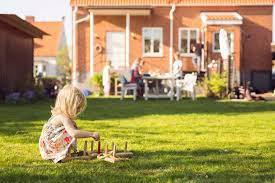child: (30, 84, 112, 164)
